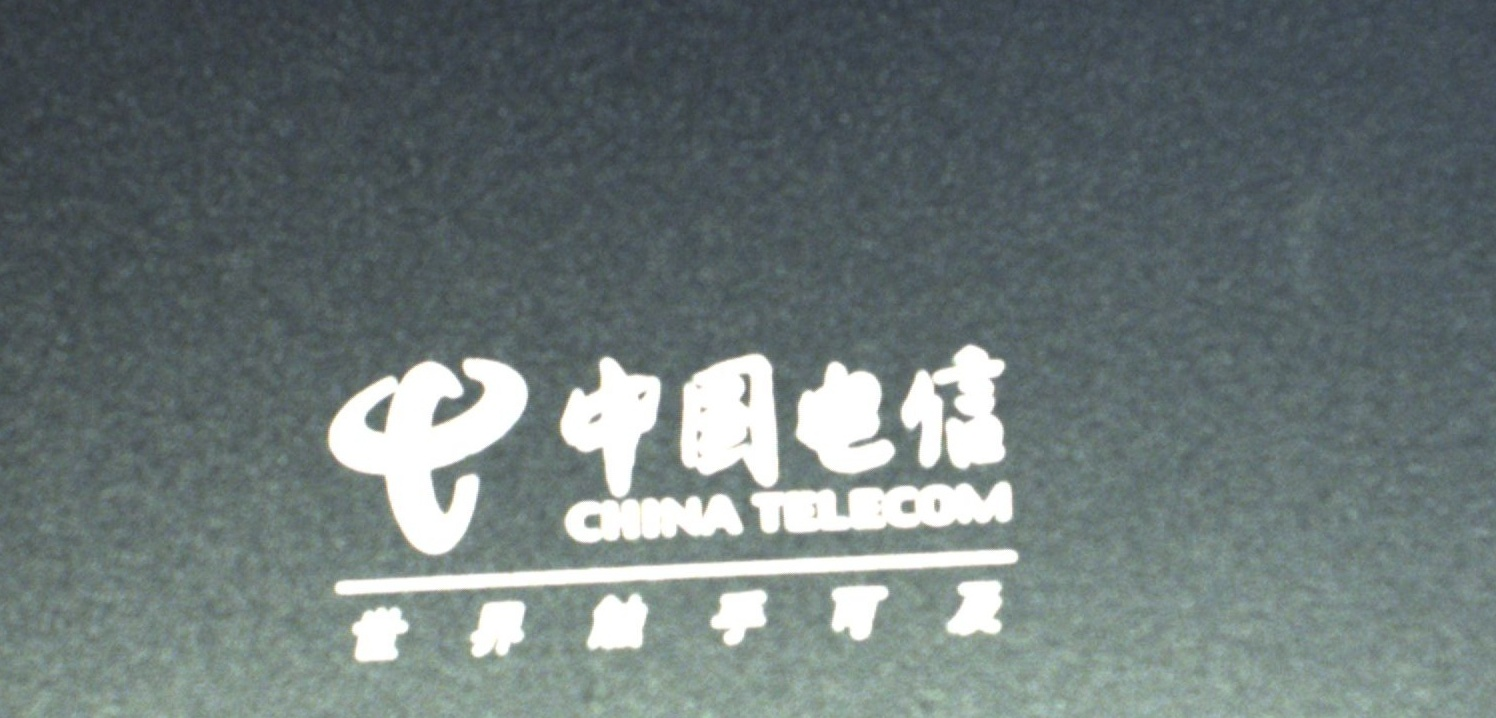AB_ChinaTelecom: (314, 338, 1017, 673)
